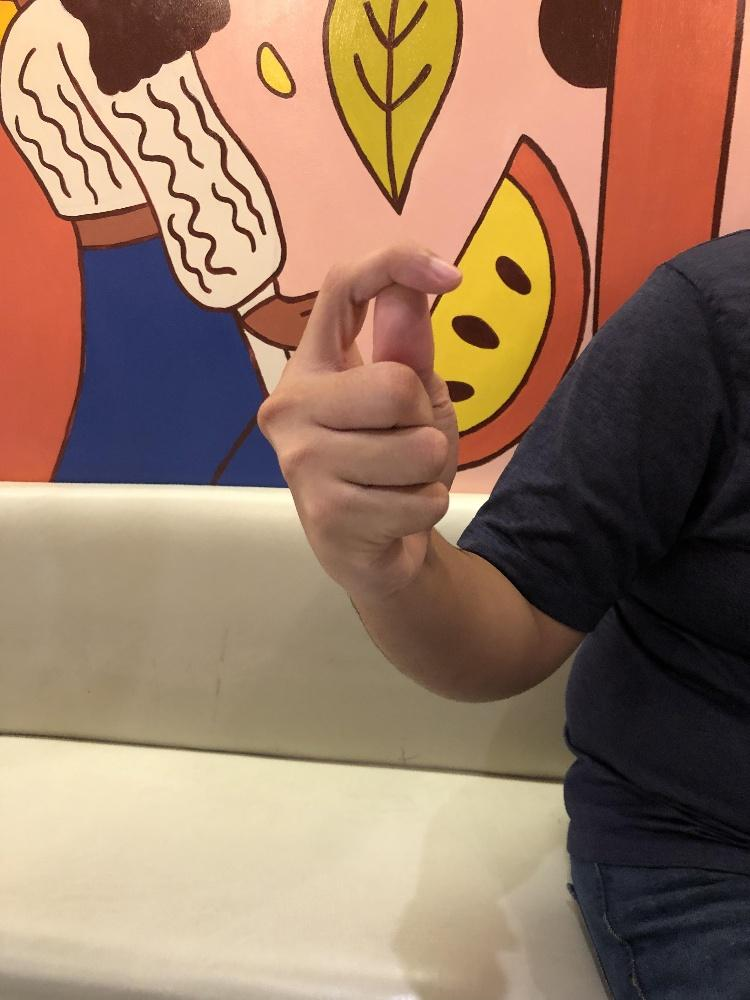t: (255, 237, 464, 598)
